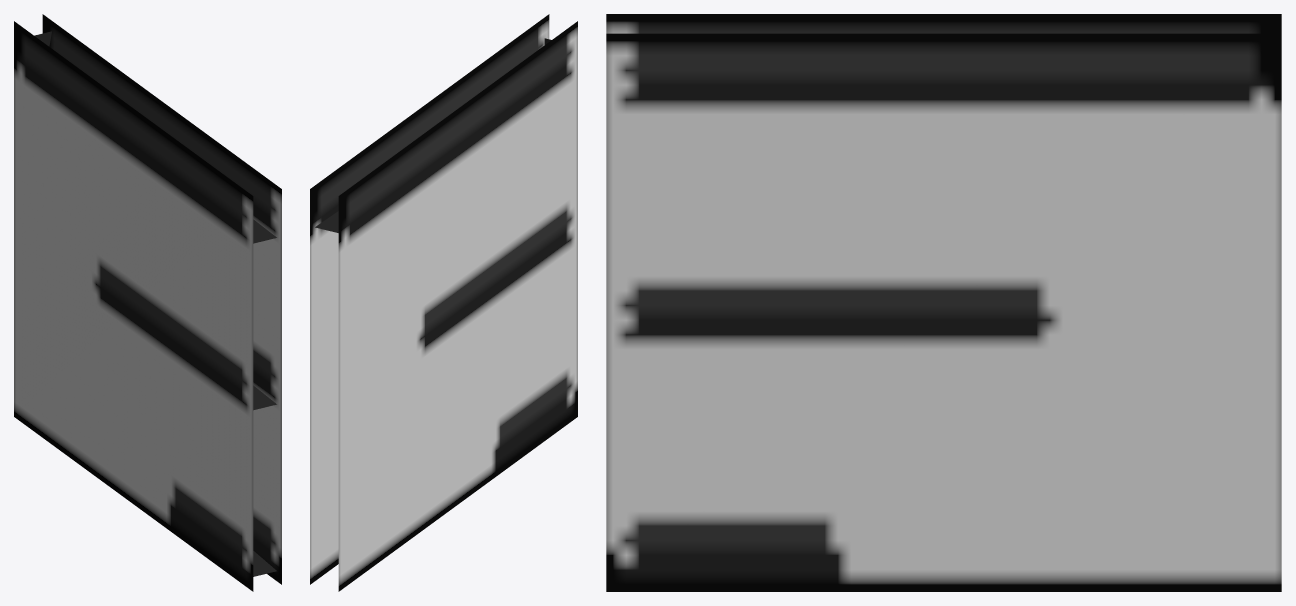
The model's file is pz_native_fixtures_railings_01_21_frame.obj.
3 renders of one model, left to right at view 1: azimuth 30°, elevation 25°; view 2: azimuth 150°, elevation 25°; view 3: azimuth 270°, elevation 25°, orthographic. The views are drawn at different scales.
Parts seen in each view (by area): view 1: pz_native_fixtures_railings_01_21_frame; view 2: pz_native_fixtures_railings_01_21_frame; view 3: pz_native_fixtures_railings_01_21_frame.
Boxes of the visible parts, x1,y1,x2,y2 form: pz_native_fixtures_railings_01_21_frame: [14, 14, 281, 591]; pz_native_fixtures_railings_01_21_frame: [310, 14, 577, 591]; pz_native_fixtures_railings_01_21_frame: [606, 14, 1281, 591].
Bounding box in the file's own units: 0.045 × 0.5938 × 0.6506.
Materials: 1 (1 with a texture image).
